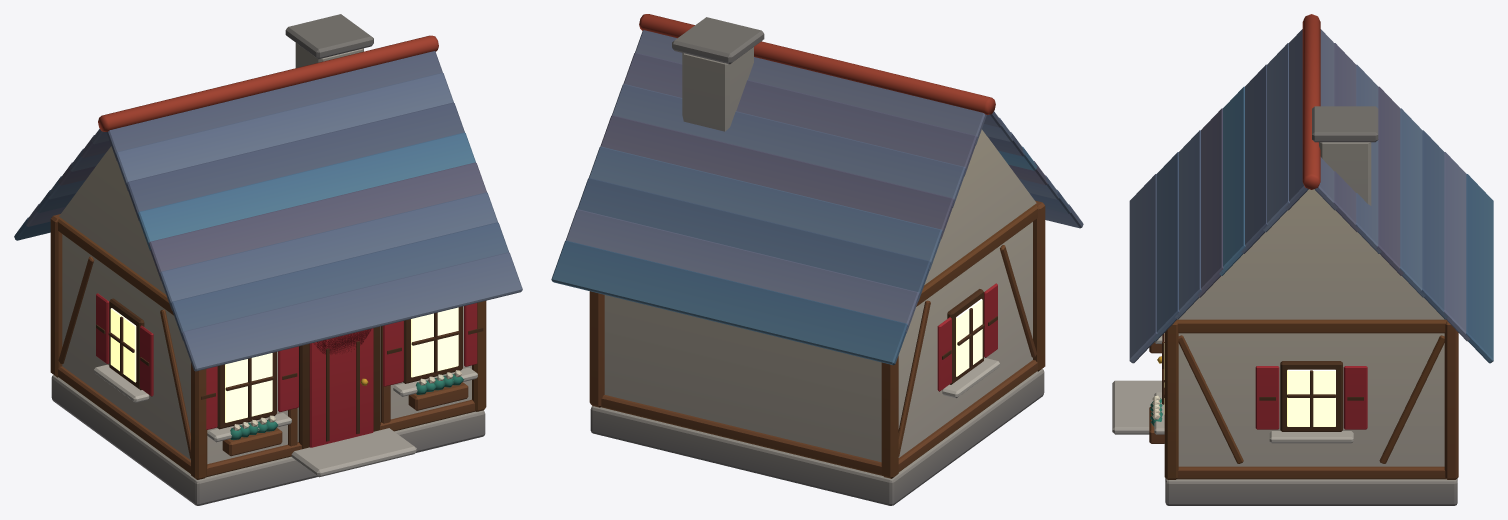
Rendered from cottage_c.glb.
The picture shows the model from 3 angles, left to right: view 1: azimuth 30°, elevation 25°; view 2: azimuth 150°, elevation 25°; view 3: azimuth 270°, elevation 25°; orthographic projection. The views are drawn at different scales.
Parts seen in each view (by area): view 1: cottage_c; view 2: cottage_c; view 3: cottage_c.
Part boxes in pixels (bbox=[...]): cottage_c: bbox=[14, 14, 522, 505]; cottage_c: bbox=[551, 14, 1083, 505]; cottage_c: bbox=[1112, 14, 1493, 505].
Bounding box in the file's own units: 5.5 × 5.61 × 5.45.
